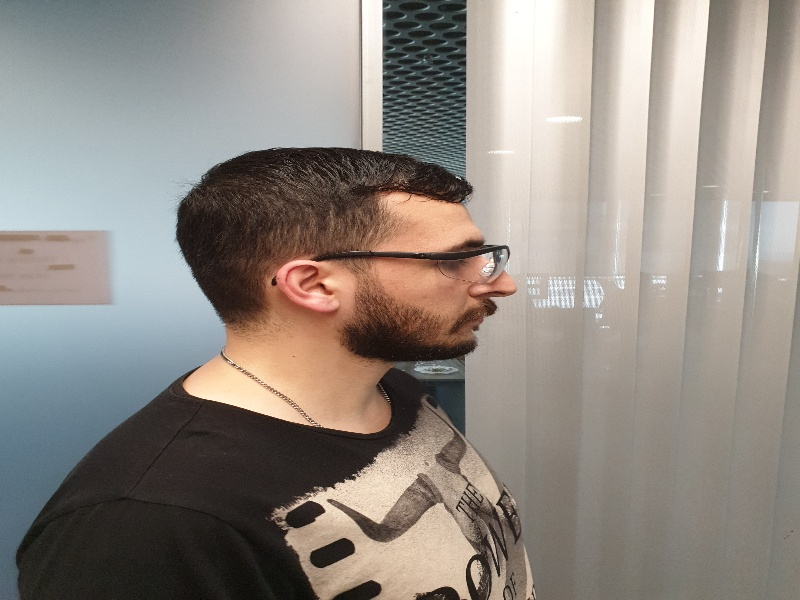Gozluk: (304, 244, 514, 282)
